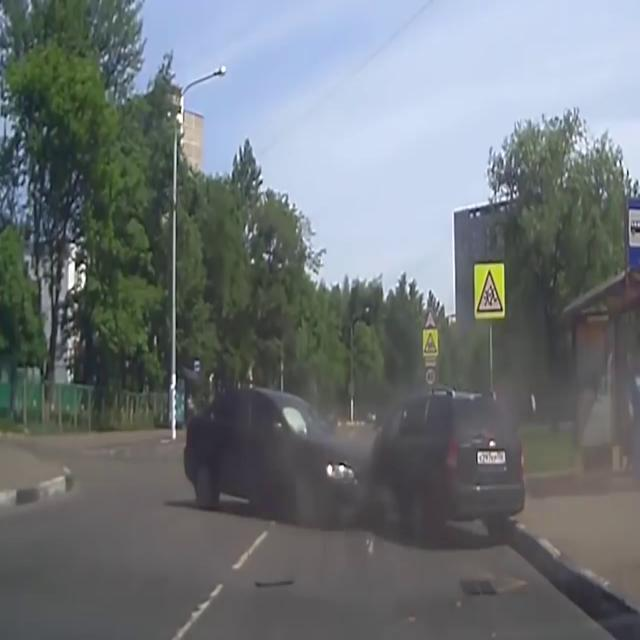multiple_accident: (200, 336, 584, 577)
